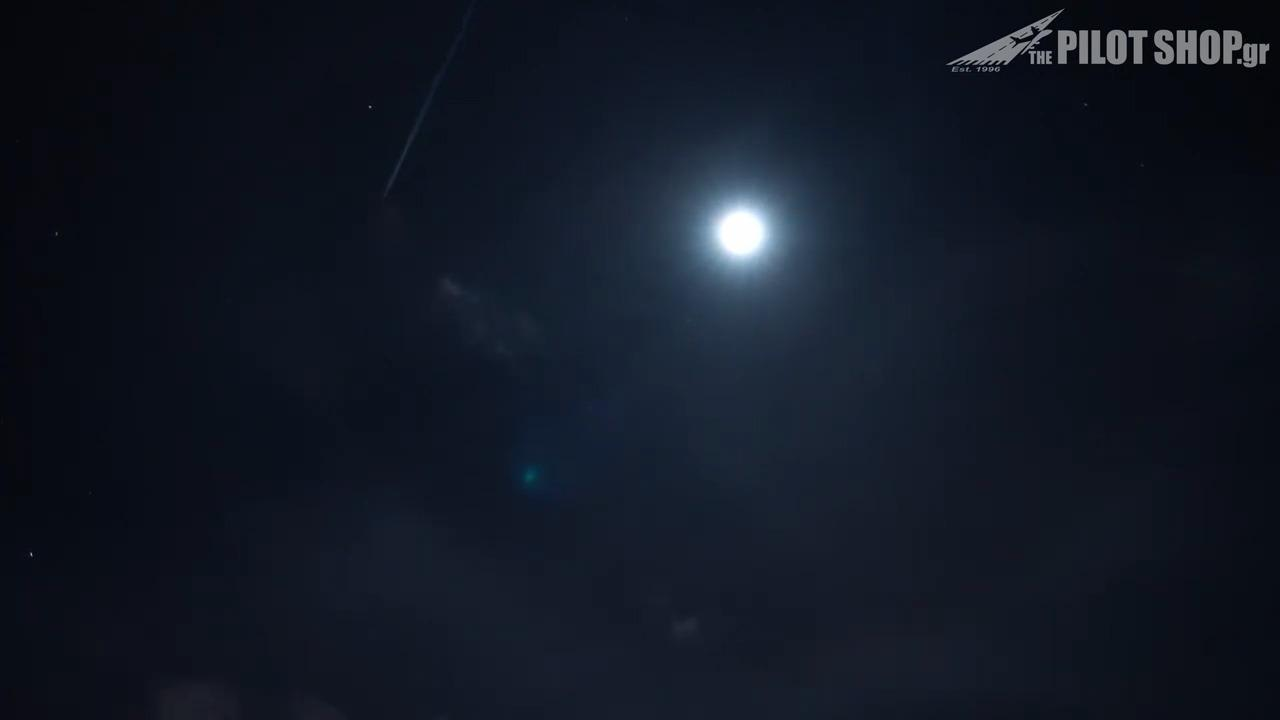Plane: (323, 0, 548, 307)
